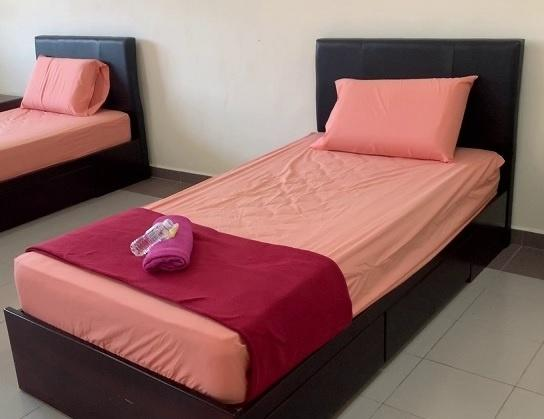bed: (10, 25, 544, 419), (0, 35, 164, 235)
table: (0, 84, 23, 106)
